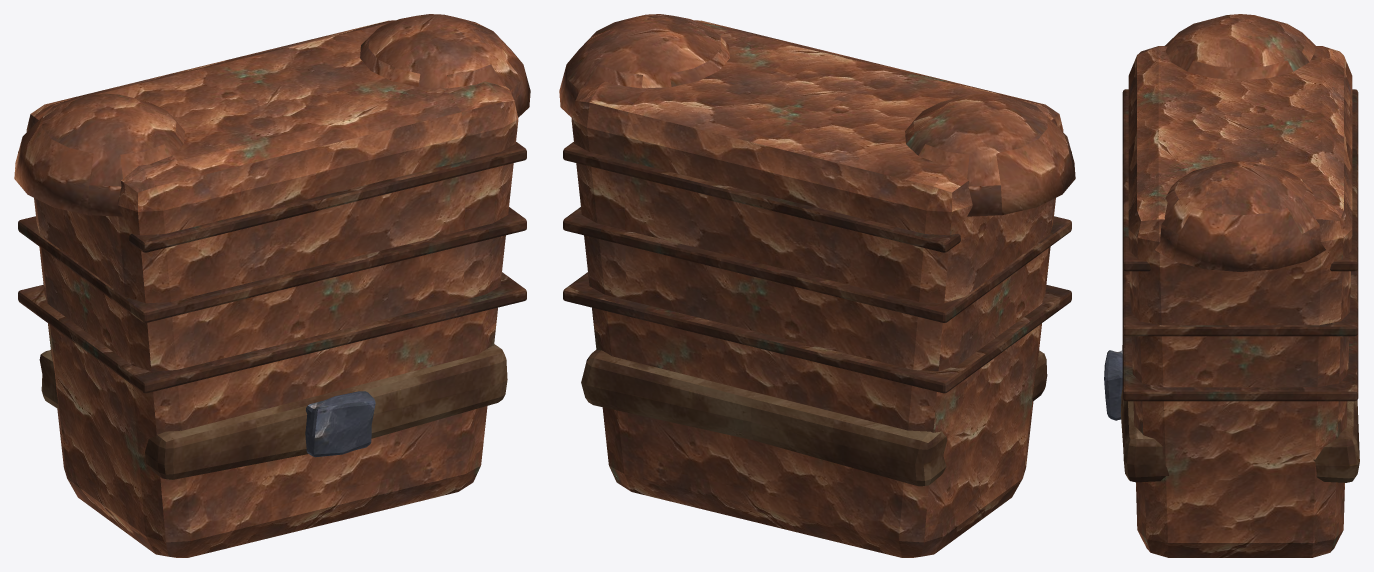
Rendered from mail_copper.glb.
The picture shows the model from 3 angles, left to right: view 1: azimuth 30°, elevation 25°; view 2: azimuth 150°, elevation 25°; view 3: azimuth 270°, elevation 25°; orthographic projection. The views are drawn at different scales.
Parts seen in each view (by area): view 1: model; view 2: model; view 3: model.
Boxes of the visible parts, x1,y1,x2,y2 form: model: [14, 14, 530, 557]; model: [559, 14, 1075, 557]; model: [1104, 14, 1359, 557].
Bounding box in the file's own units: 0.51 × 0.43 × 0.2498.
Materials: 4 (4 with a texture image).
